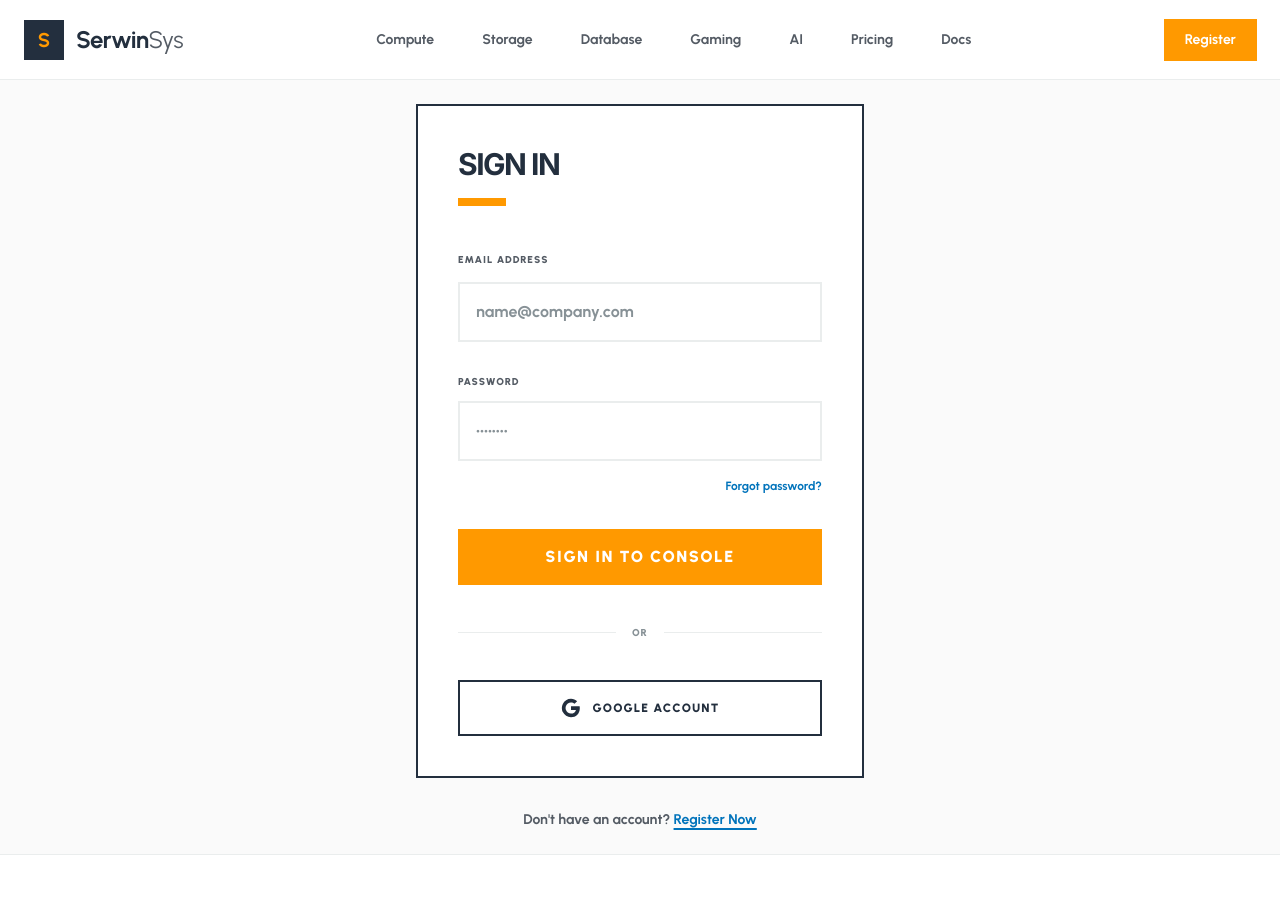
Test case: LoginPage — unit › shows "Authenticating..." label while loading
Type "user@example.com" into the field with placeholder "name@company.com" at (640, 312), box [458,282,822,342]
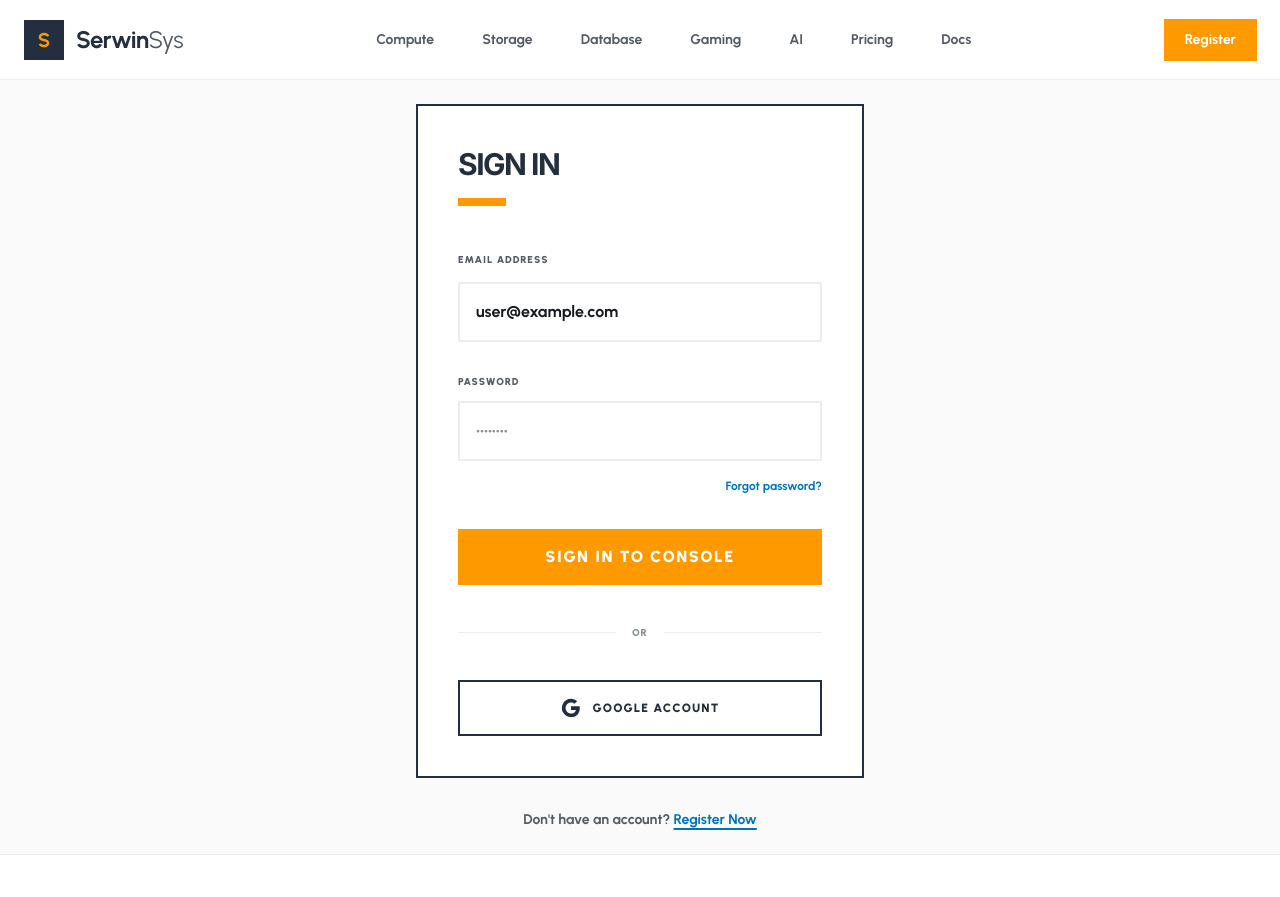
Type "password123" into the password field with placeholder "••••••••" at (640, 431), box [458,401,822,461]
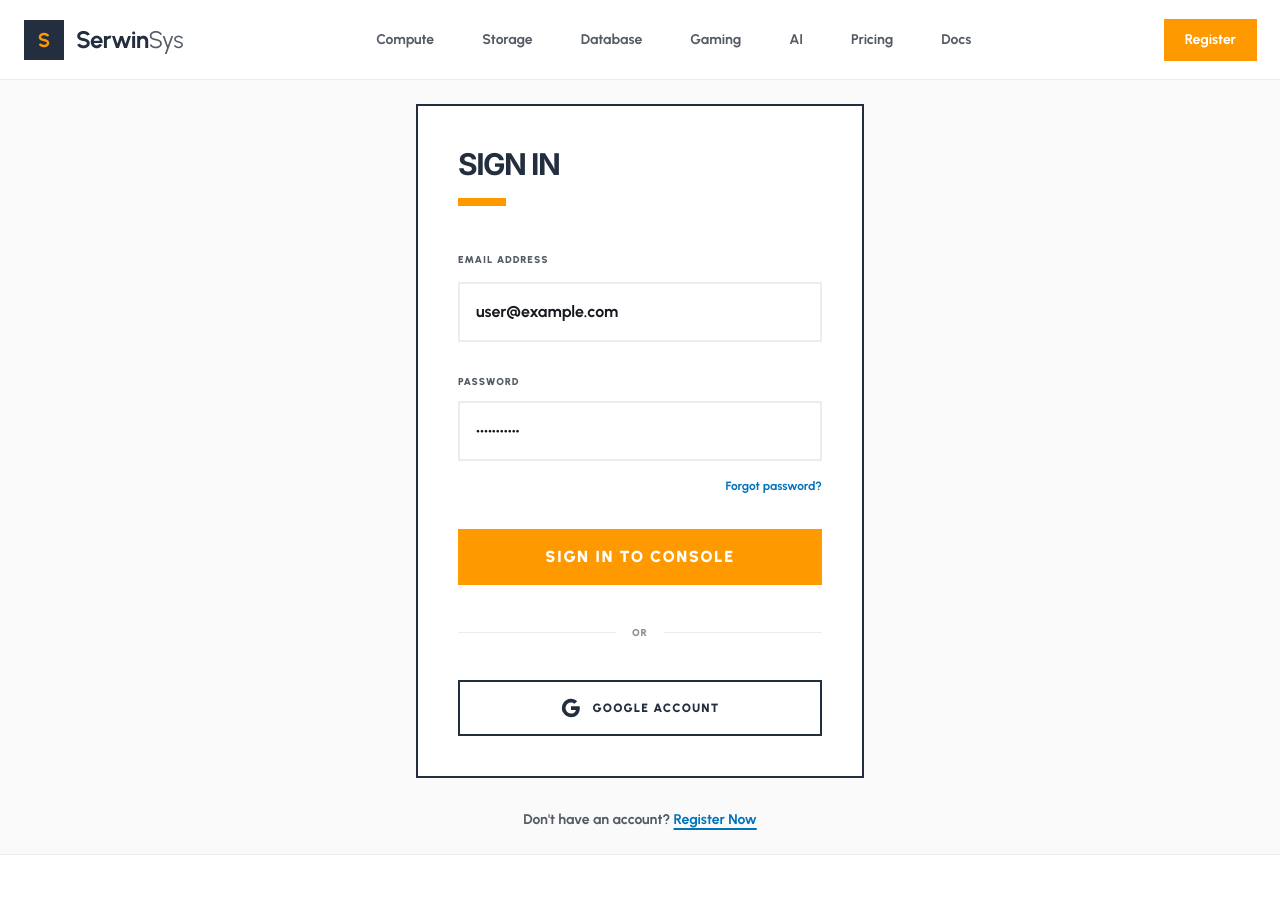
Submit the form, box [458,246,822,736]
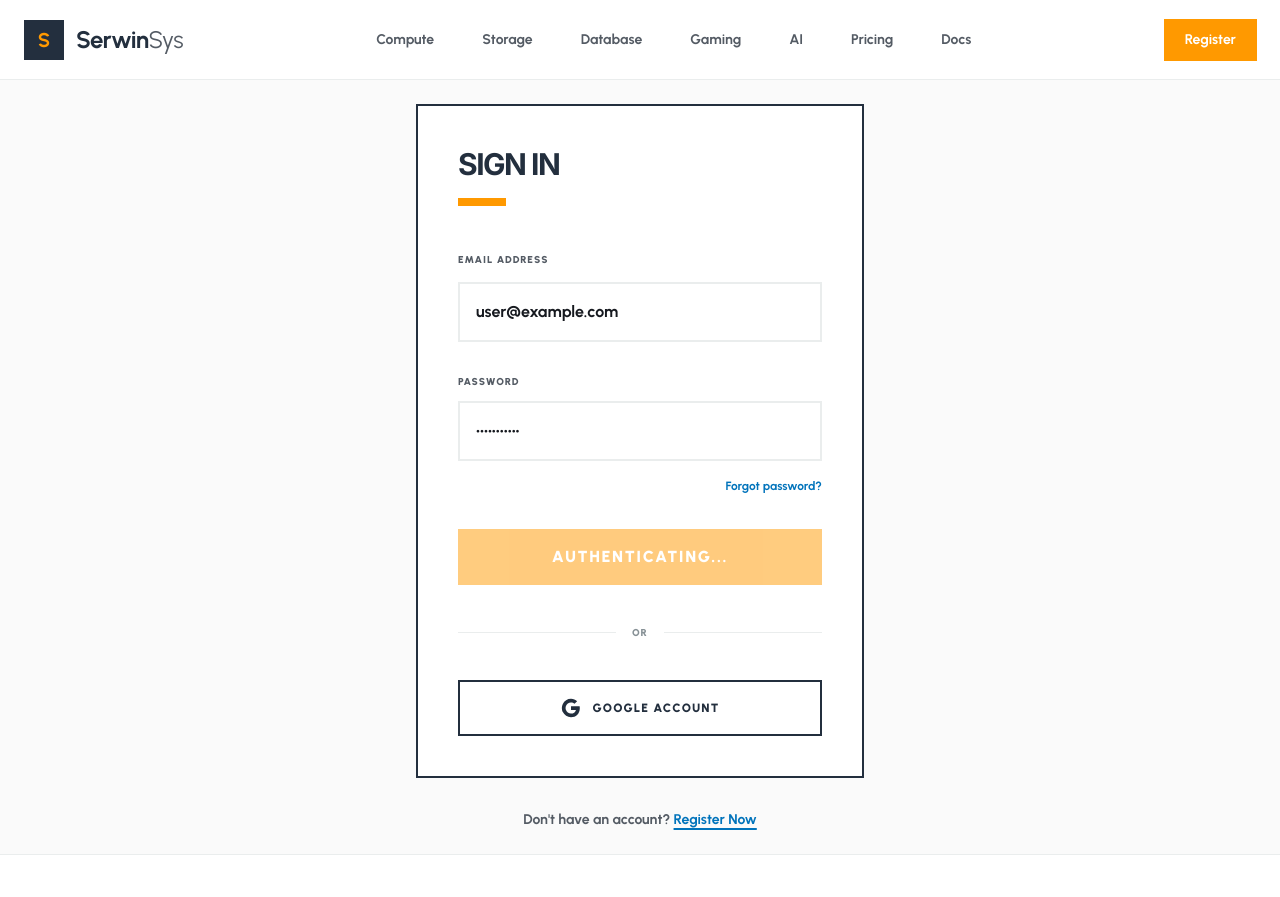
Check: the text "Authenticating..." is shown, box [552,547,728,566]
